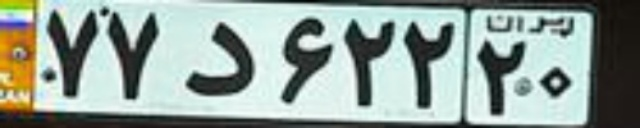0: (536, 66, 573, 98)
2: (343, 18, 396, 106), (402, 20, 454, 107), (477, 38, 524, 115)
6: (276, 15, 336, 102)
7: (105, 9, 162, 100), (44, 9, 99, 100)
dal: (183, 20, 258, 95)
